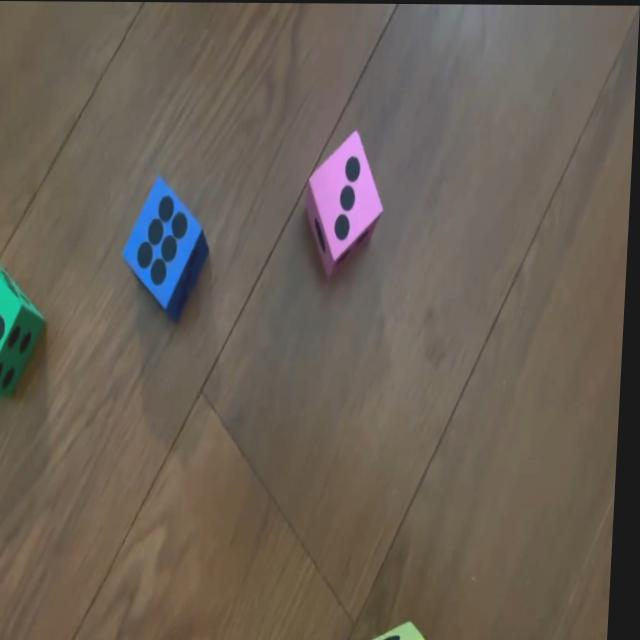blue_block: (122, 175, 215, 324)
